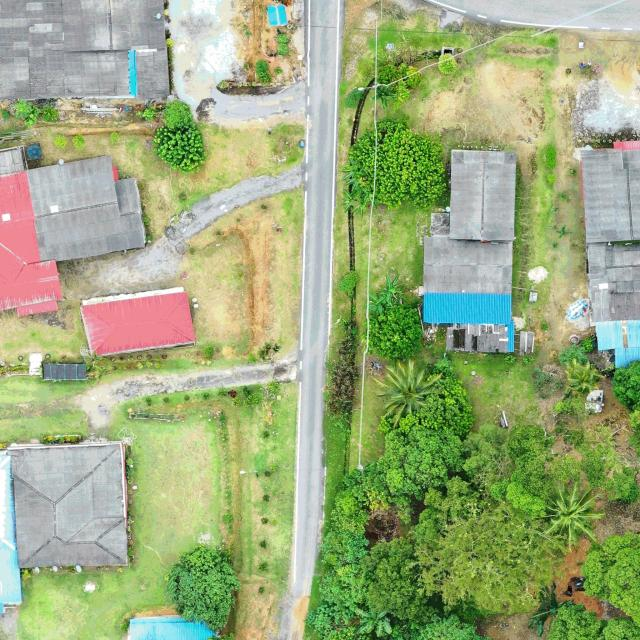Tree: (408, 502, 570, 615), (346, 117, 447, 210), (376, 425, 464, 502), (166, 544, 242, 633), (580, 530, 640, 633), (397, 378, 474, 440), (370, 360, 439, 420), (545, 480, 605, 546), (369, 301, 424, 361), (151, 121, 206, 174), (548, 600, 602, 640), (562, 357, 606, 395), (612, 359, 640, 412), (341, 187, 381, 216), (354, 606, 390, 637), (342, 154, 368, 194), (162, 98, 195, 129), (374, 273, 406, 304), (370, 80, 398, 108), (557, 344, 589, 366), (436, 52, 458, 75), (368, 292, 390, 314), (52, 133, 68, 149), (72, 133, 86, 150)
